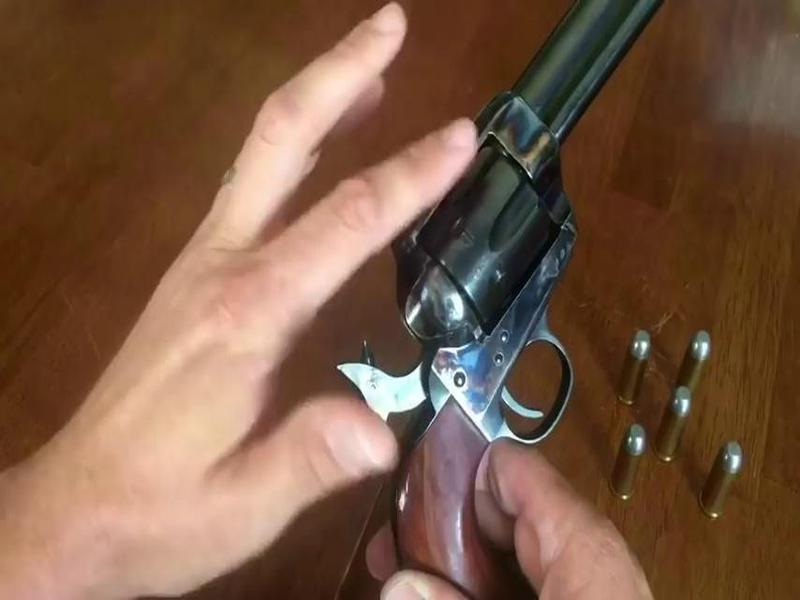Revolver: (385, 6, 675, 600)
